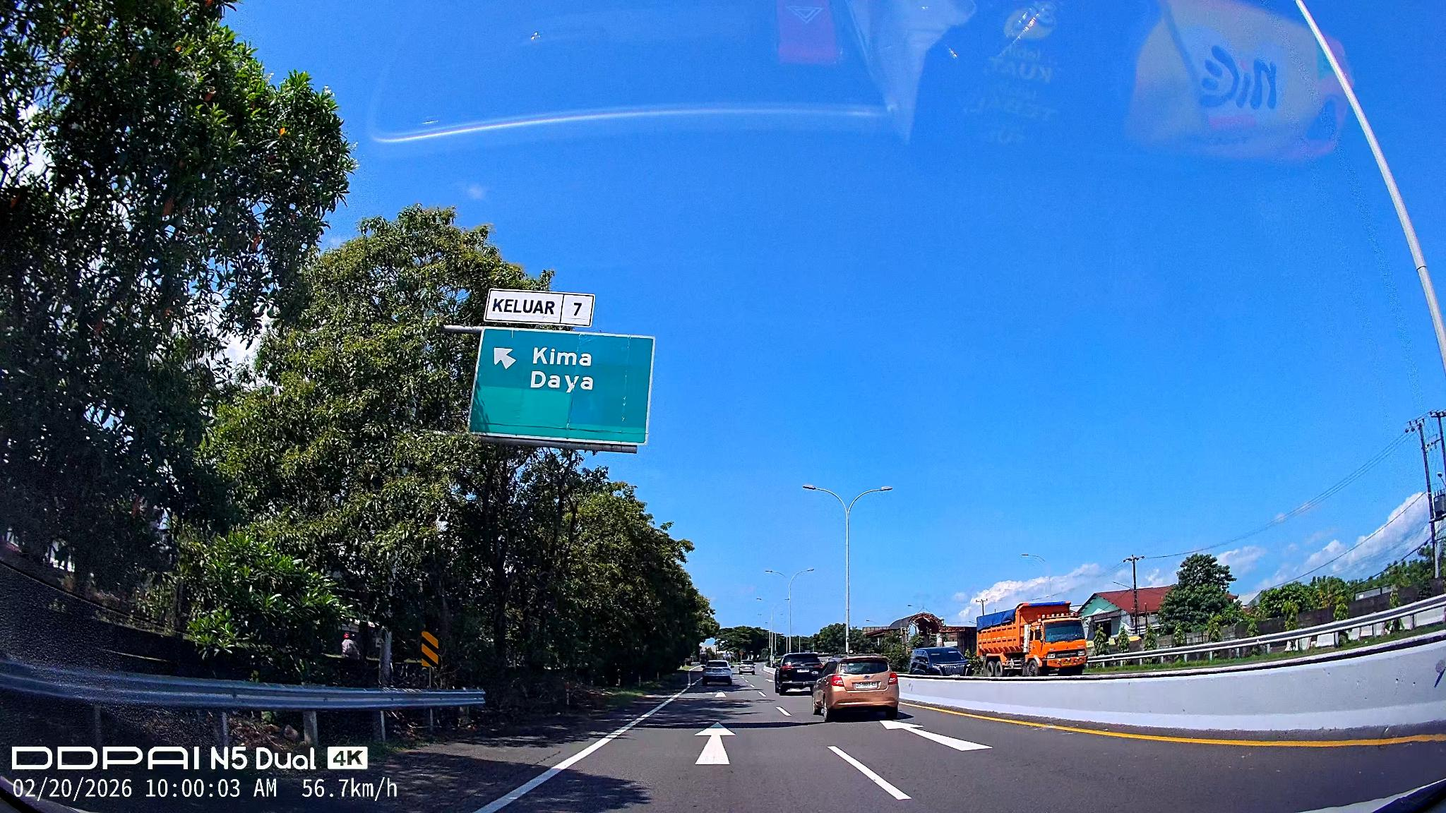rambu_teks: (466, 325, 657, 446)
